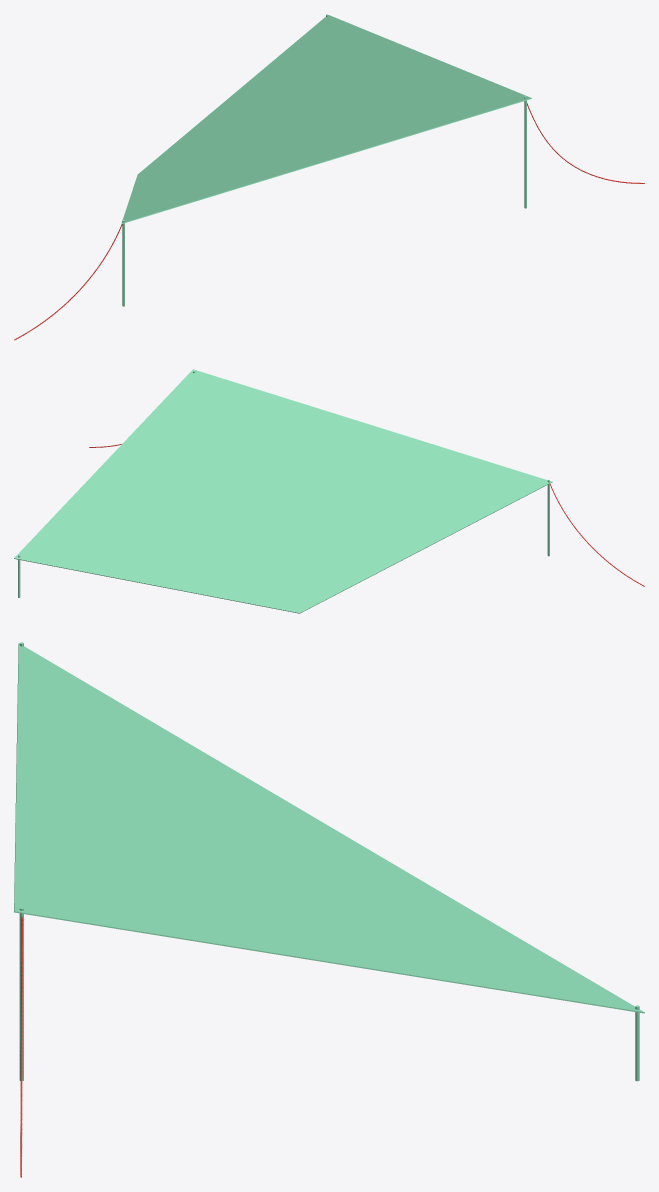
The model's file is doekoverkapping.fbx.
The picture shows the model from 3 angles, top to bottom: view 1: azimuth 30°, elevation 25°; view 2: azimuth 150°, elevation 25°; view 3: azimuth 270°, elevation 25°; orthographic projection. The views are drawn at different scales.
Parts seen in each view (by area): view 1: doekoverkapping; view 2: doekoverkapping; view 3: doekoverkapping.
Part boxes in pixels (left/top/right/bottom): doekoverkapping: left=121, top=14, right=531, bottom=306; doekoverkapping: left=14, top=369, right=552, bottom=613; doekoverkapping: left=14, top=642, right=644, bottom=1081.
Size of the model in its own units: 7836 by 1417 by 4382.
Materials: 2 (1 with a texture image).
